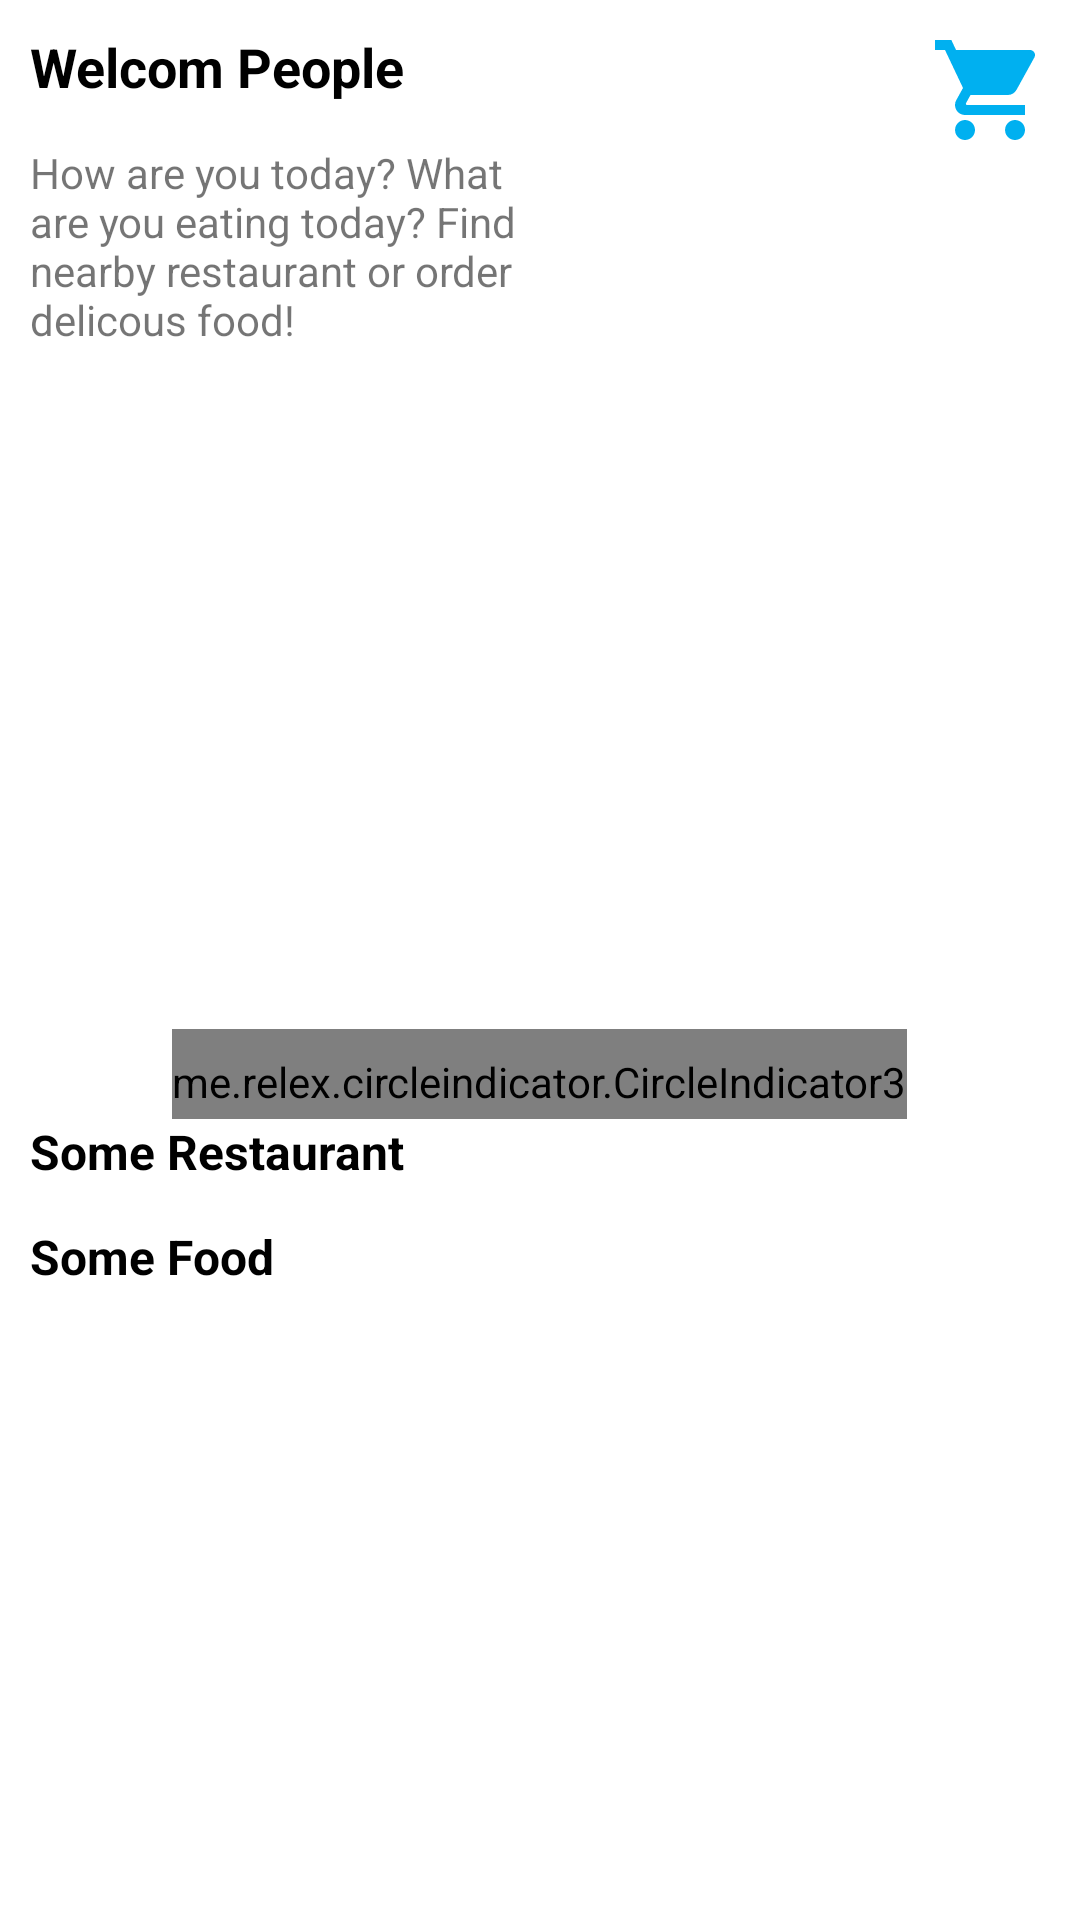

Icon click points for this 1080px x 1920px phone screenshot, format point (x, y):
cart: point (985, 90)
